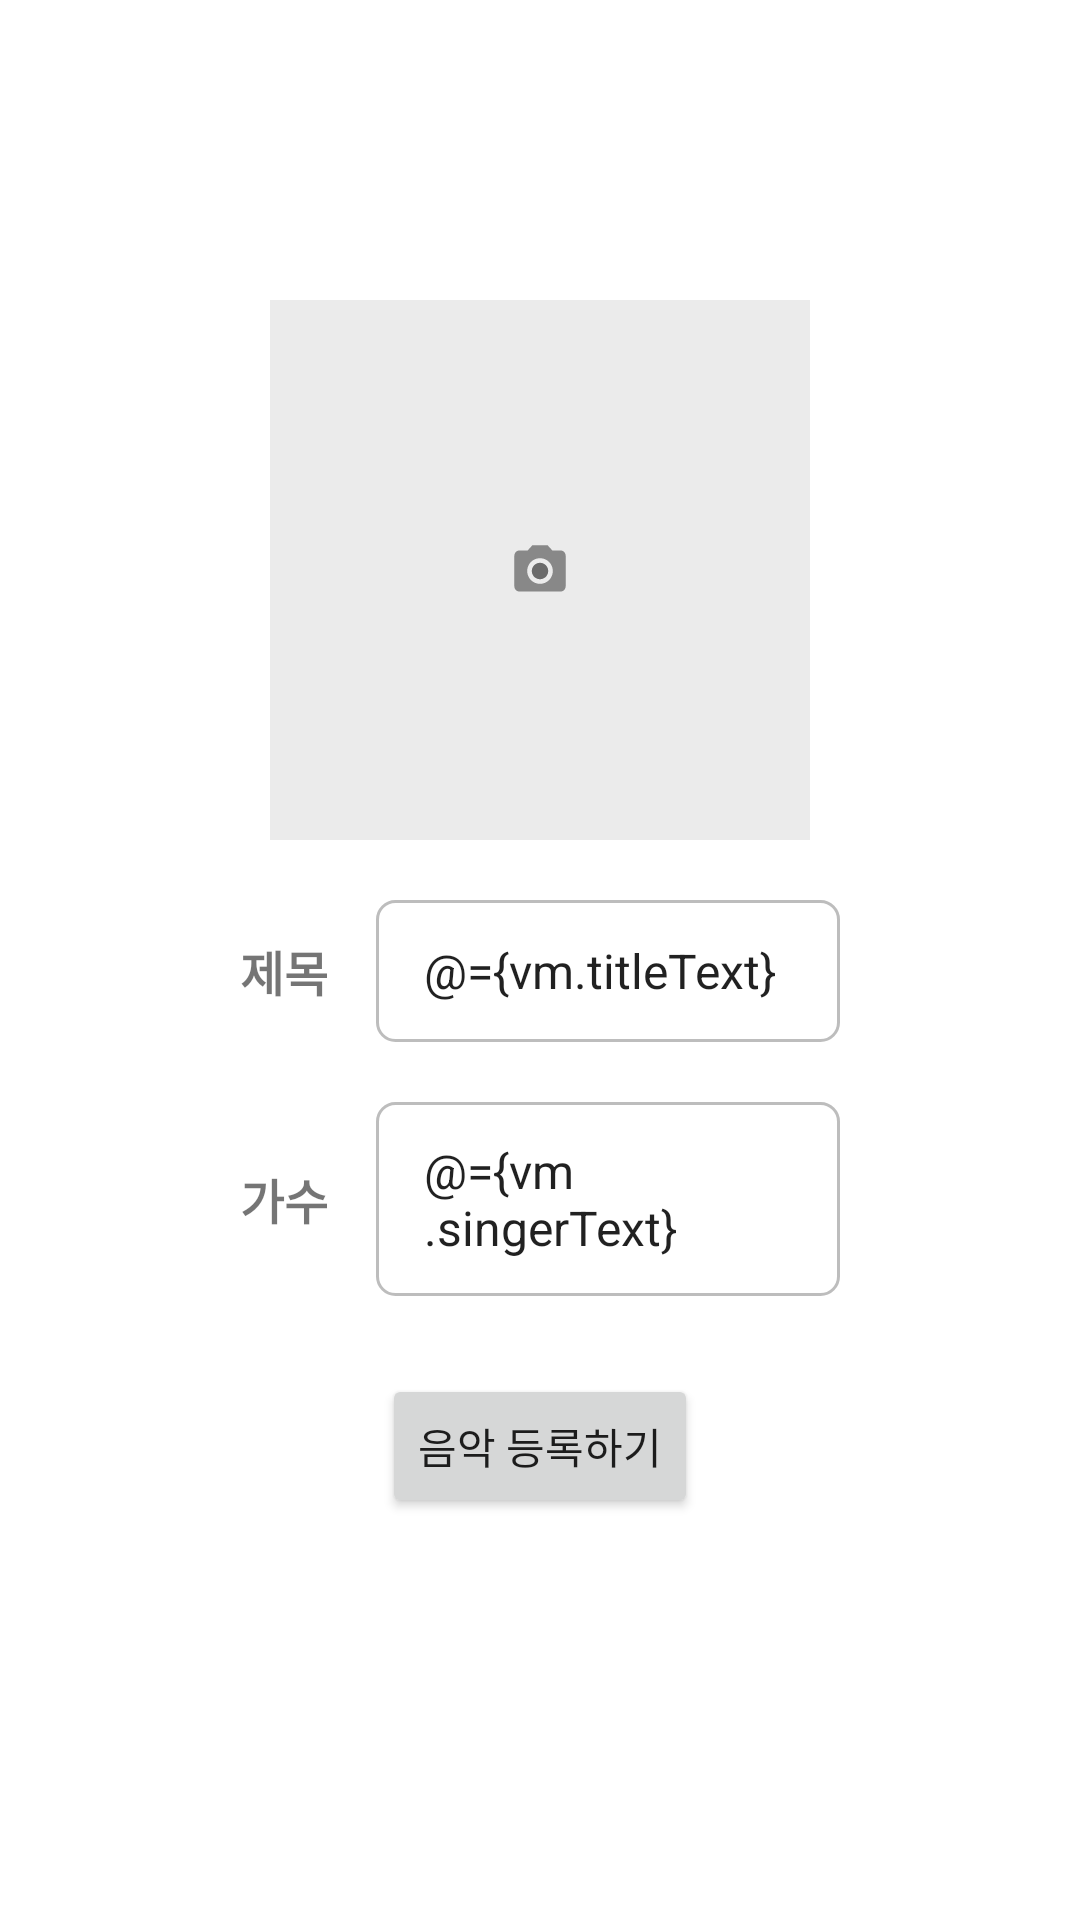

Icons on this 1080 × 1920 Android screen, each with its box as box=[x1, y1, x2, y2]:
photo: box=[514, 545, 566, 592]
